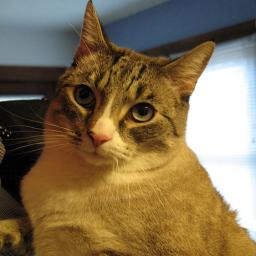catnose: (87, 130, 112, 148)
